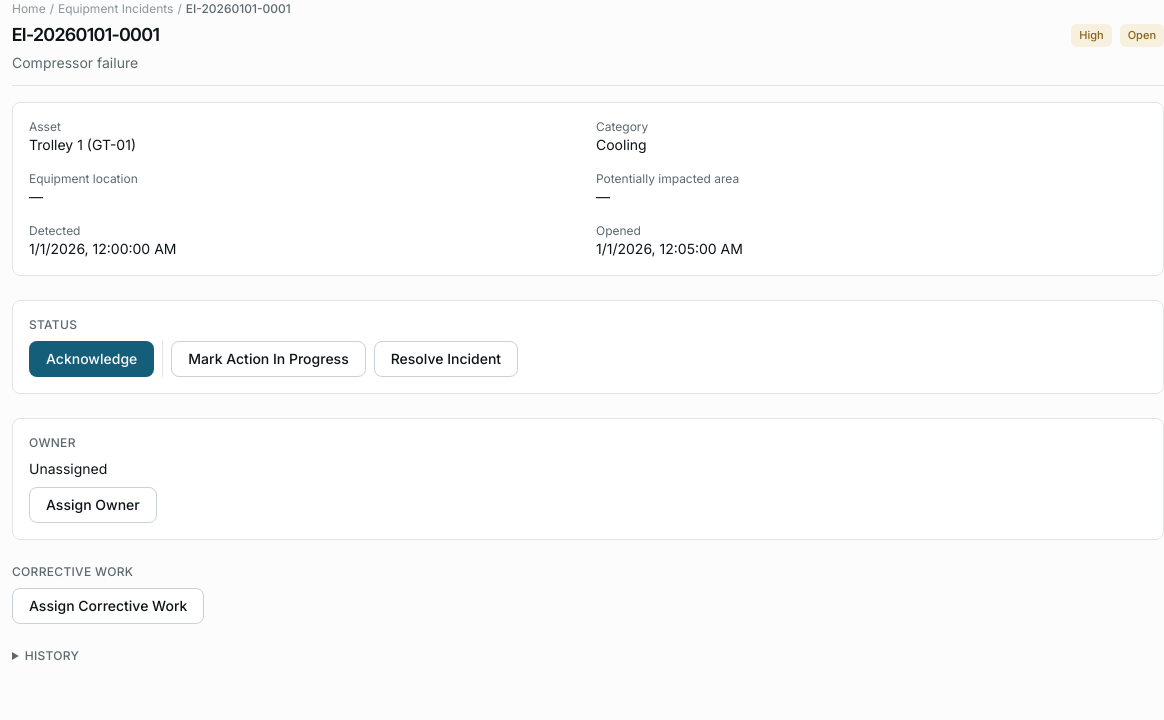
Test: EquipmentIncidentWorkspacePage: Incident vs Work Item resolution boundary › completing corrective work never visually or behaviorally resolves the Incident
Expected: the button "Acknowledge" is shown, [29,340,154,376]
Click the button "Assign Corrective Work" at (108, 606), box [12,588,204,624]
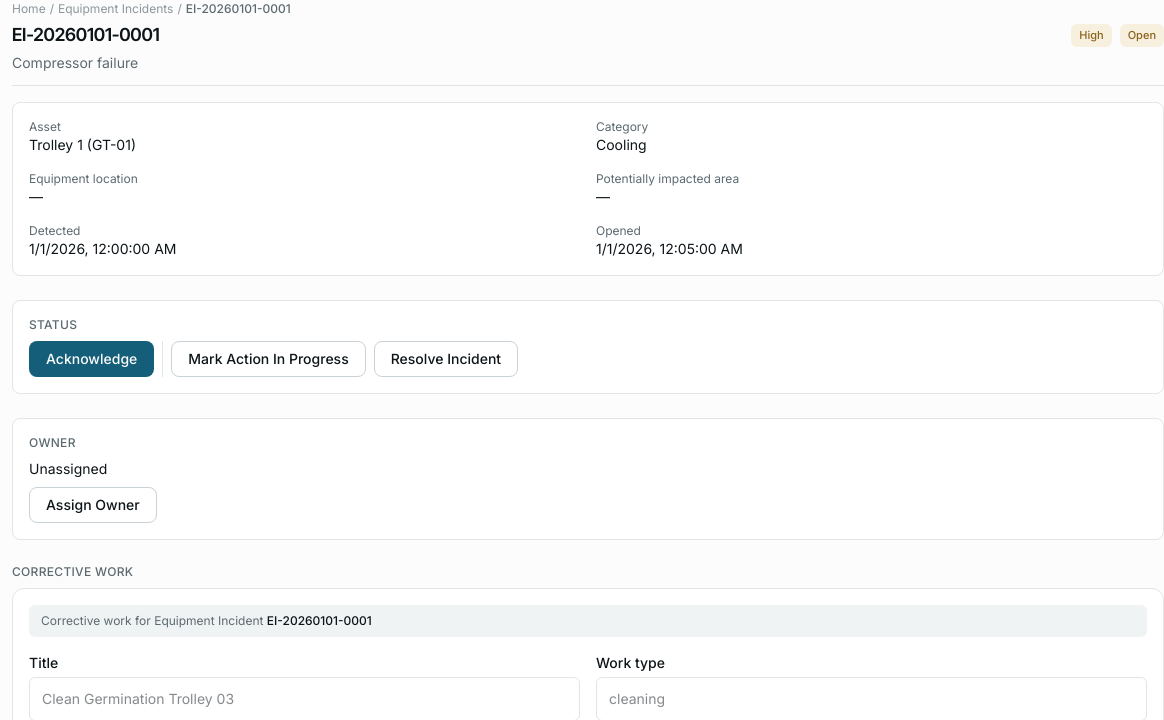
Now the field labelled "Title" is shown
Type "Fix compressor" into the field labelled "Title" at (304, 698), box [29,676,580,719]
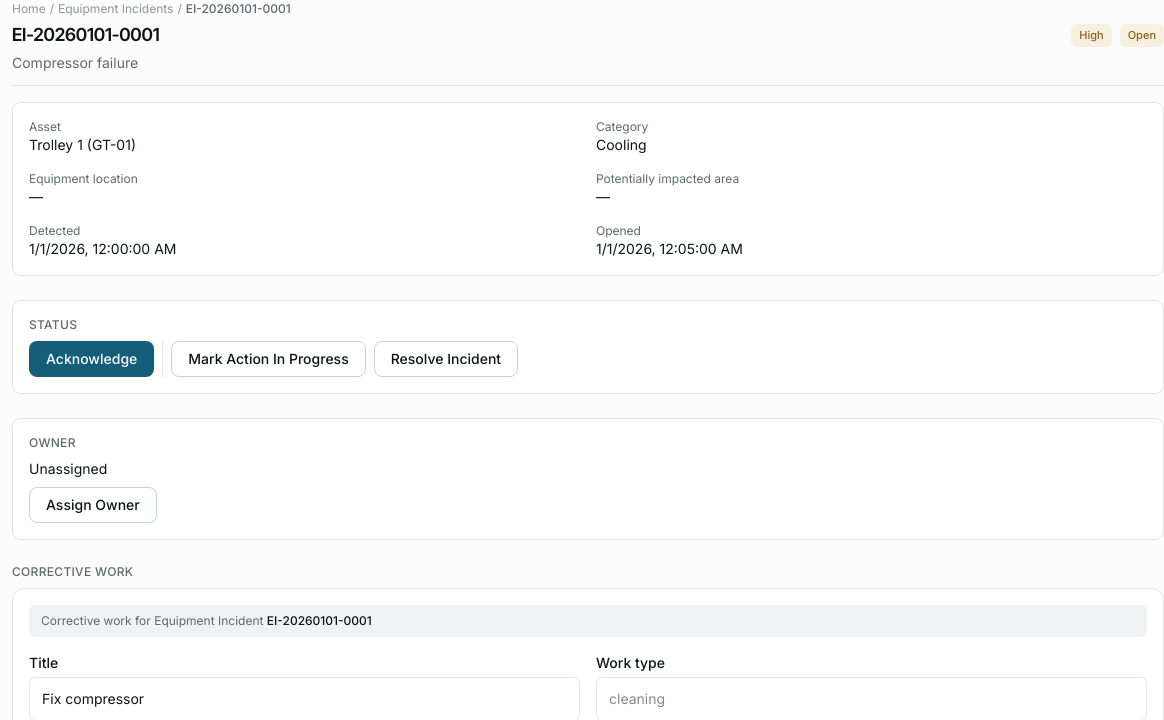
Type "repair" into the field labelled "Work type" at (872, 698), box [596,676,1147,719]
(page scrolled)
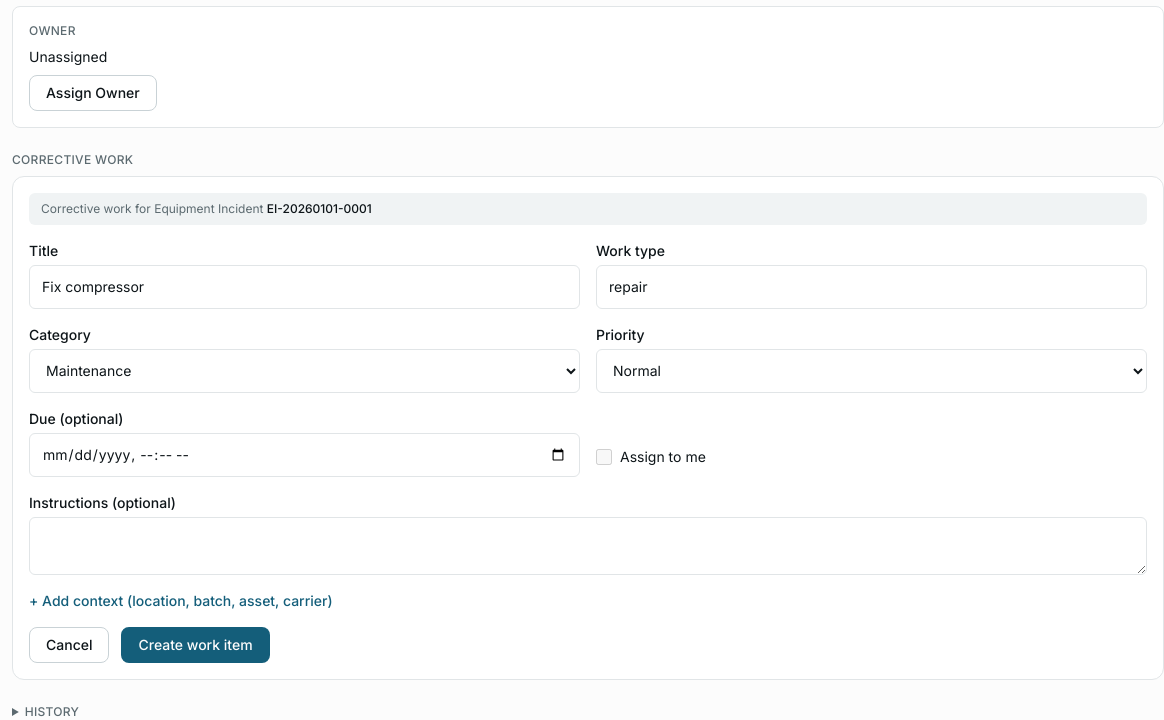
Click the button "Create work item" at (196, 644), box [122,626,270,662]
(page scrolled)
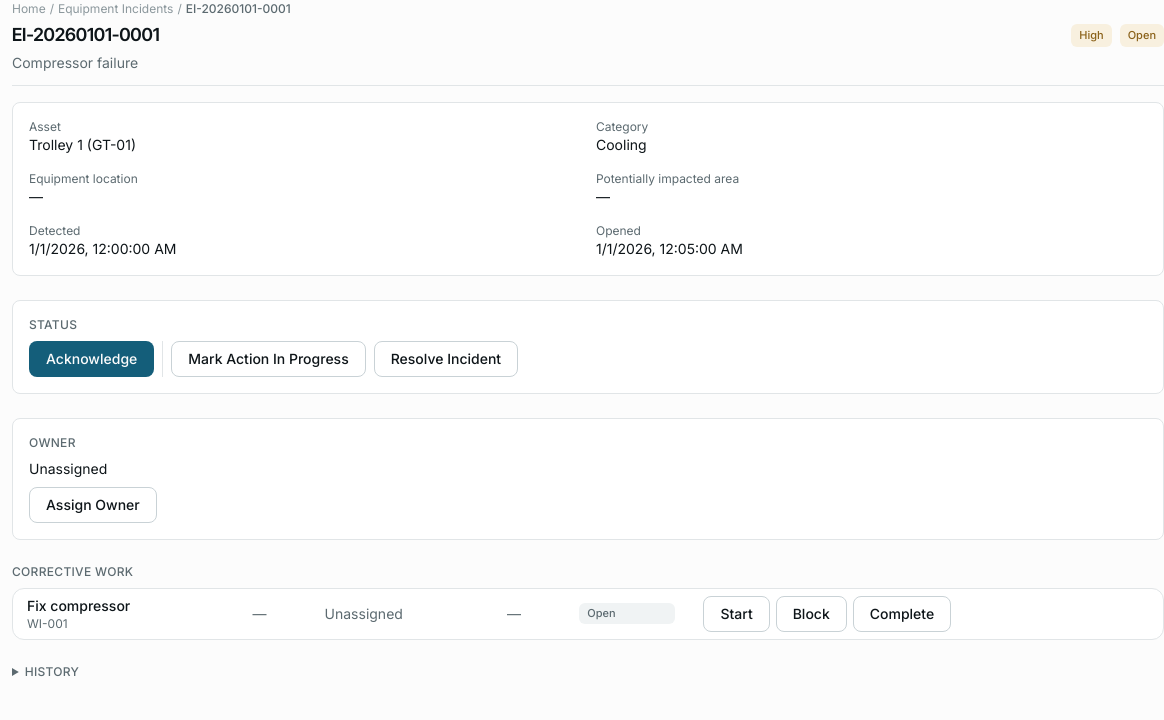
Expected: the button "Acknowledge" is shown, [29,340,154,376]
Now the text "Fix compressor WI-001" is shown, box [13,588,238,638]
